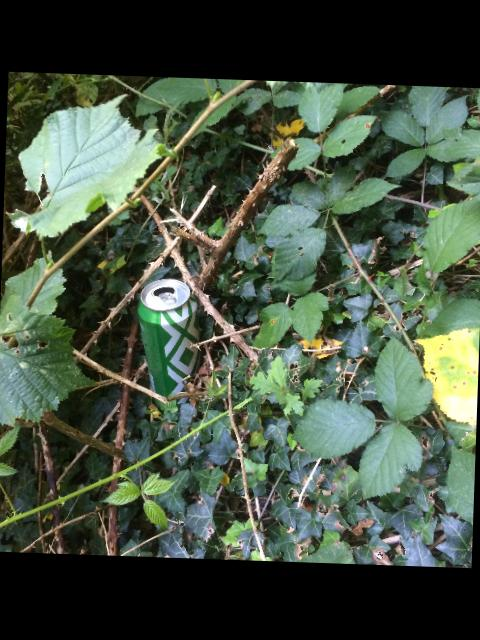metal: (137, 279, 198, 397)
